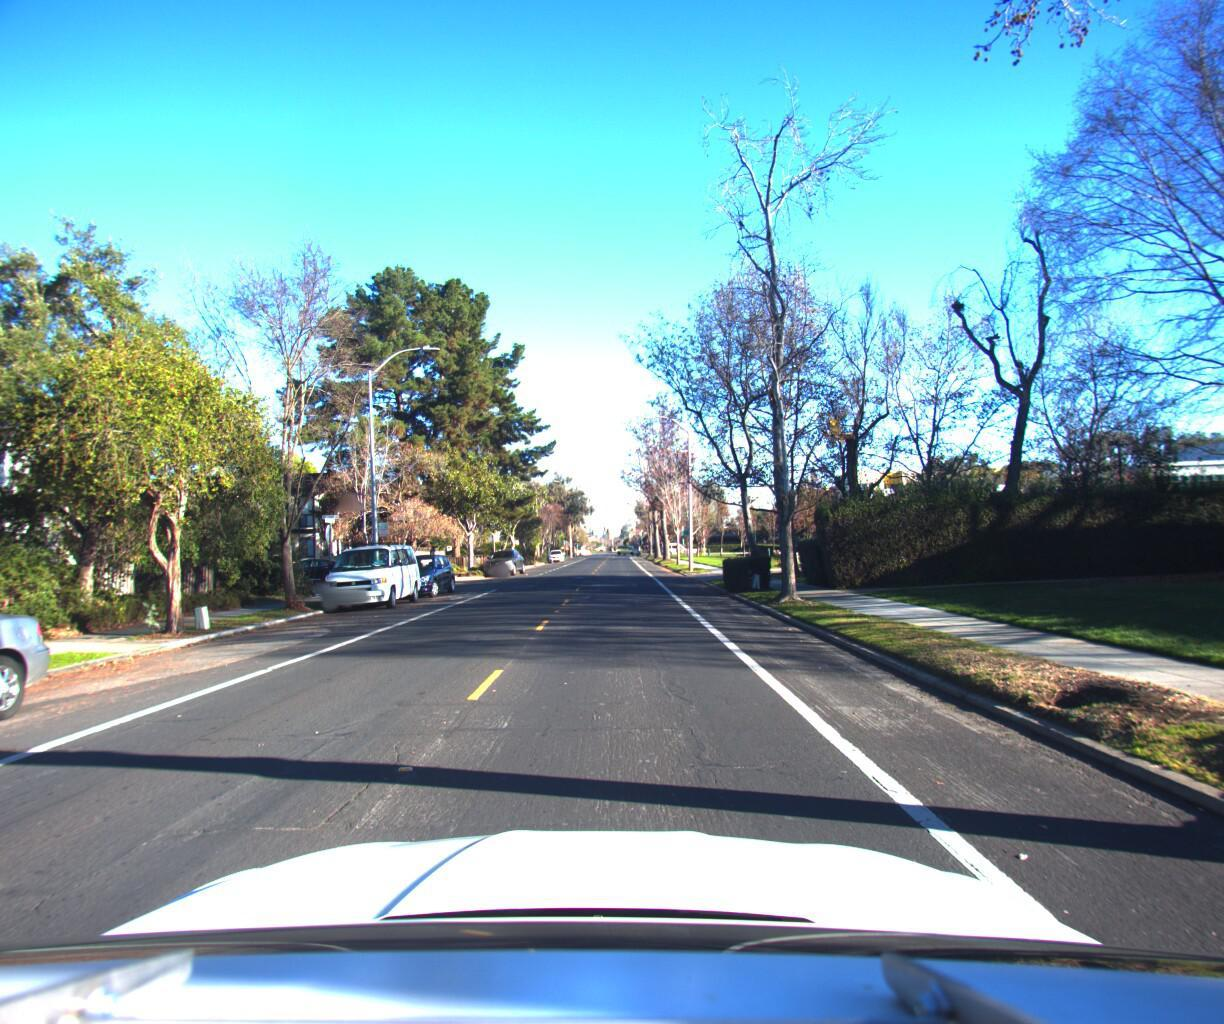car: (0, 570, 85, 870), (316, 534, 427, 611), (379, 546, 461, 598), (482, 543, 529, 573)
